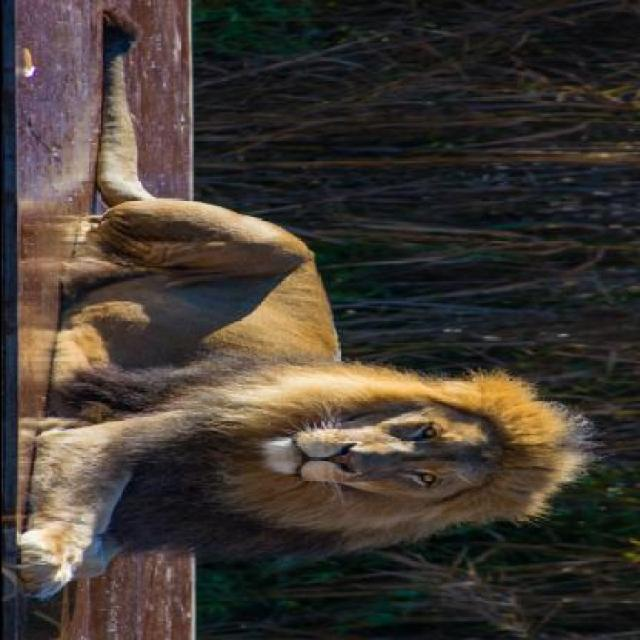Lion: (1, 14, 618, 601)
